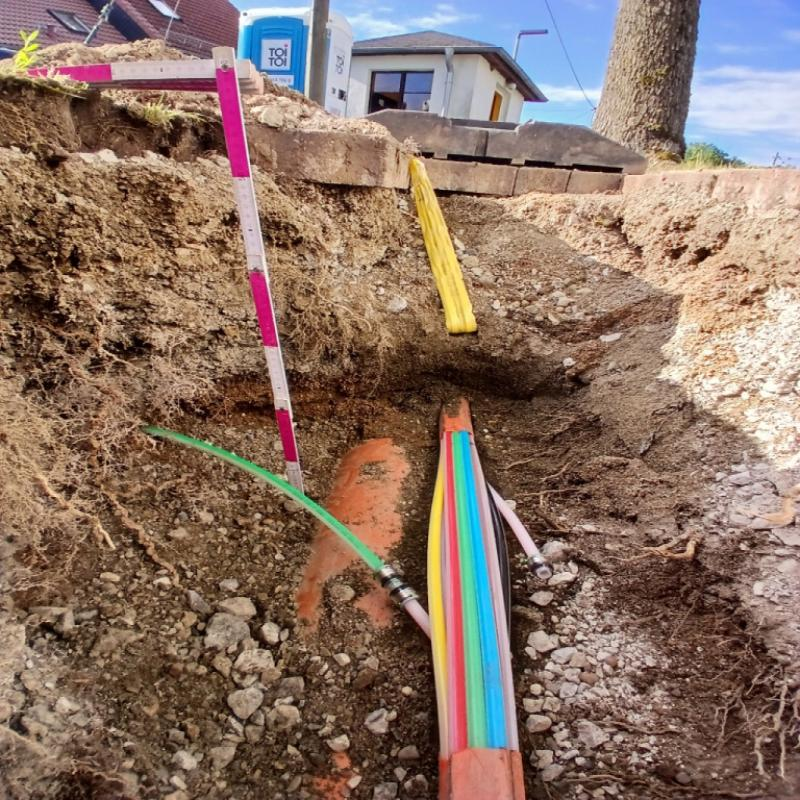Orang-Speednetrohrchen: (298, 397, 526, 800)
